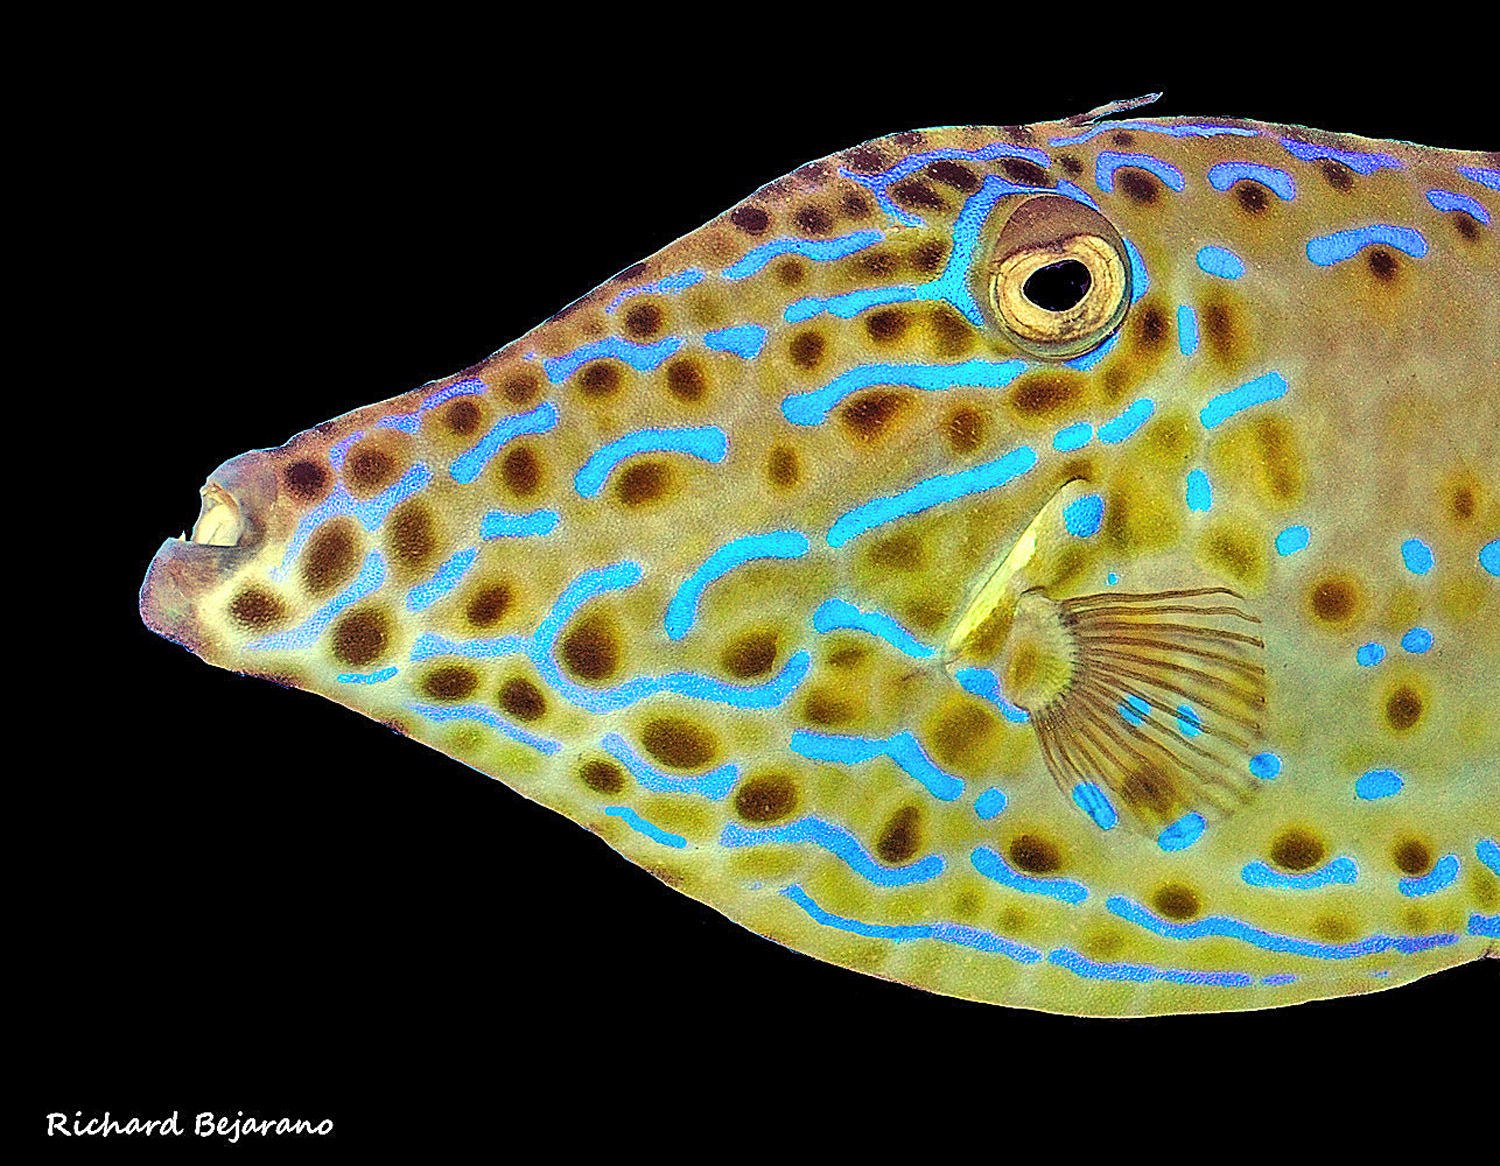Aluterus_scriptus: (131, 78, 1500, 1026)
